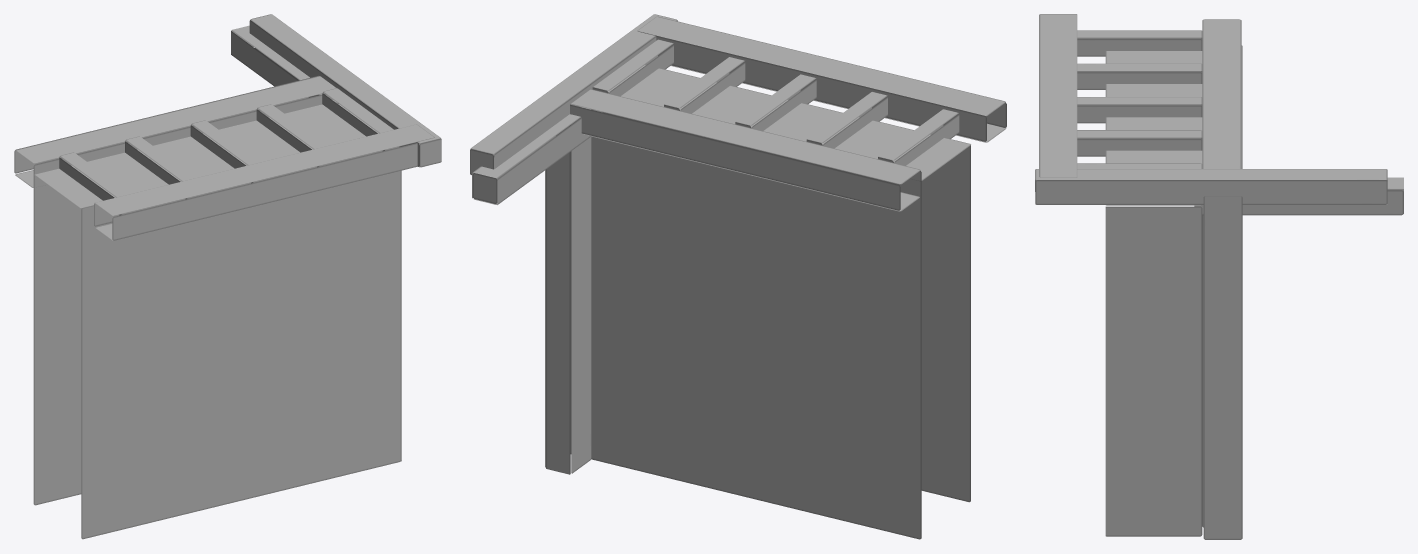
The model's file is pz_bed_bedding_01_large_fancy_1_1.obj.
3 views of the same model, side by side, from view 1: azimuth 30°, elevation 25°; view 2: azimuth 150°, elevation 25°; view 3: azimuth 270°, elevation 25° (orthographic). The views are drawn at different scales.
Size of the model in its own units: 0.975 by 0.985 by 0.915.
1 material, 1 textured.
